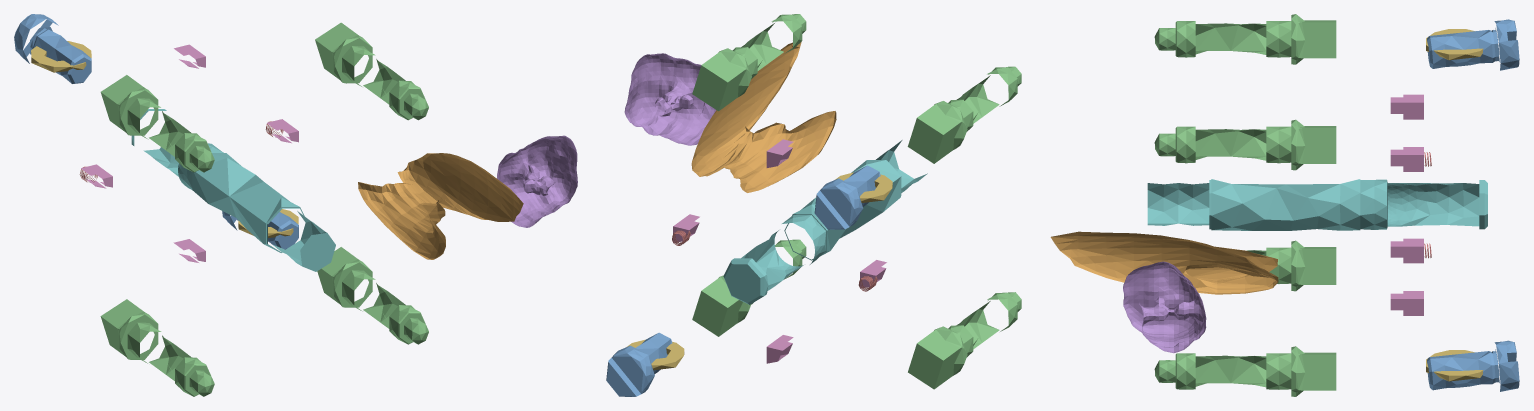
File: toolpost_reconstructed_parts_only.glb
3 views of the same model, side by side, from view 1: azimuth 30°, elevation 25°; view 2: azimuth 150°, elevation 25°; view 3: azimuth 270°, elevation 25° (orthographic).
Parts seen in each view (by area): view 1: recon_shaft_side_15, recon_shaft_central_14, recon_knob_16, recon_machine_screw_1, recon_machine_screw_2, recon_machine_screw_3, recon_machine_screw_0, recon_bs4183_screw_11, recon_bs4183_screw_10, recon_din_washer_13; view 2: recon_shaft_side_15, recon_shaft_central_14, recon_knob_16, recon_machine_screw_2, recon_machine_screw_1, recon_machine_screw_3, recon_machine_screw_0, recon_bs4183_screw_11, recon_bs4183_screw_10, recon_din_washer_12, recon_din_washer_13, recon_compress_spring_6 (+3 smaller); view 3: recon_shaft_central_14, recon_shaft_side_15, recon_machine_screw_2, recon_machine_screw_0, recon_machine_screw_3, recon_knob_16, recon_bs4183_screw_11, recon_bs4183_screw_10, recon_machine_screw_1, recon_compress_spring_6, recon_compress_spring_7, recon_compress_spring_8 (+3 smaller).
Boxes of the visible parts, x1,y1,x2,y2 form: recon_shaft_side_15: (358, 153, 523, 259); recon_shaft_central_14: (131, 109, 335, 271); recon_knob_16: (497, 135, 577, 227); recon_machine_screw_1: (100, 299, 214, 396); recon_machine_screw_2: (315, 22, 428, 120); recon_machine_screw_3: (100, 75, 214, 172); recon_machine_screw_0: (317, 247, 428, 344); recon_bs4183_screw_11: (14, 14, 91, 83); recon_bs4183_screw_10: (222, 211, 298, 249); recon_din_washer_13: (31, 41, 91, 72); recon_shaft_side_15: (691, 42, 836, 192); recon_shaft_central_14: (723, 140, 927, 304); recon_knob_16: (624, 53, 716, 145); recon_machine_screw_2: (692, 14, 806, 111); recon_machine_screw_1: (908, 292, 1021, 389); recon_machine_screw_3: (907, 66, 1021, 163); recon_machine_screw_0: (692, 239, 806, 336); recon_bs4183_screw_11: (814, 165, 880, 229); recon_bs4183_screw_10: (606, 332, 672, 396); recon_din_washer_12: (627, 339, 684, 370); recon_din_washer_13: (835, 172, 892, 202); recon_compress_spring_6: (766, 139, 793, 167); recon_shaft_central_14: (1147, 179, 1487, 230); recon_shaft_side_15: (1050, 231, 1278, 294); recon_machine_screw_2: (1154, 119, 1336, 170); recon_machine_screw_0: (1154, 346, 1336, 396); recon_machine_screw_3: (1154, 14, 1336, 64); recon_knob_16: (1123, 261, 1206, 353); recon_bs4183_screw_11: (1427, 19, 1519, 70); recon_bs4183_screw_10: (1427, 340, 1519, 391); recon_machine_screw_1: (1247, 240, 1336, 291); recon_compress_spring_6: (1390, 94, 1423, 119); recon_compress_spring_7: (1390, 238, 1423, 263); recon_compress_spring_8: (1390, 291, 1423, 315).
Size of the model in its own units: 221 by 144 by 225.
